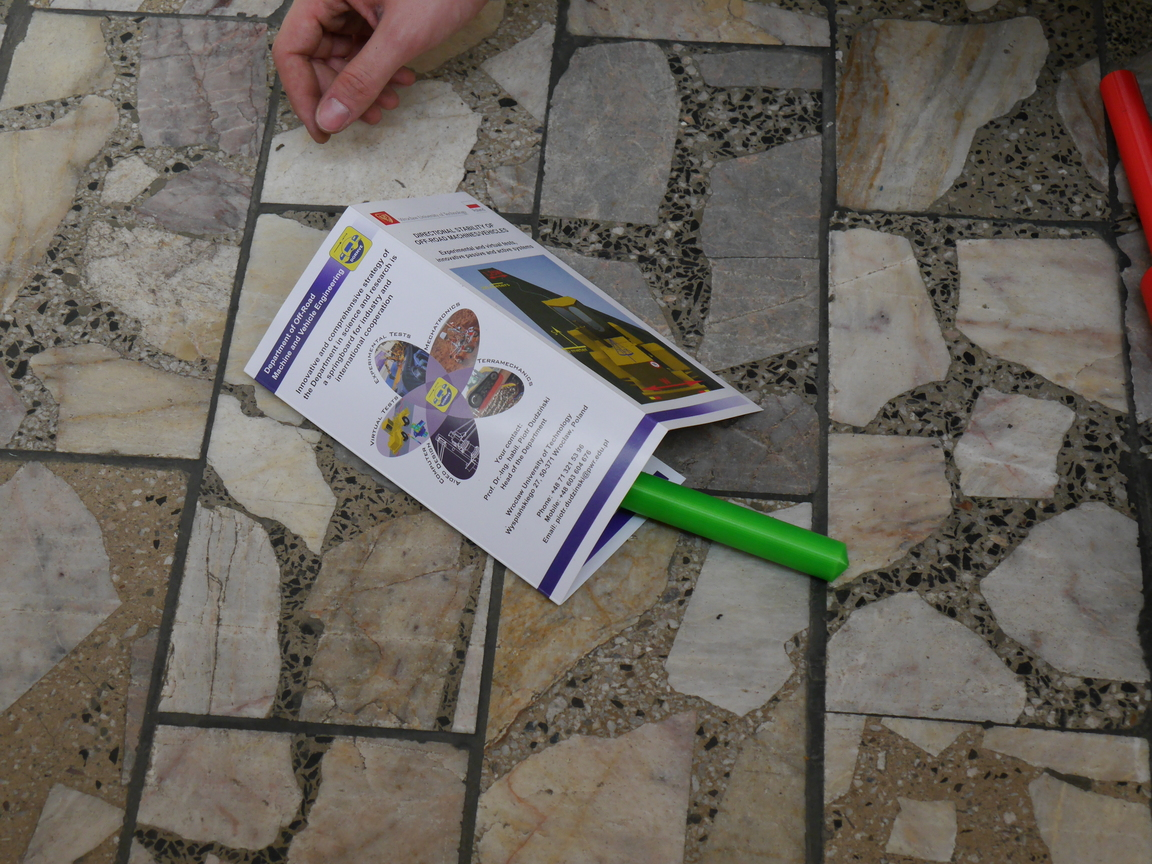cargo_g: (619, 468, 851, 583), (1100, 71, 1152, 319)
